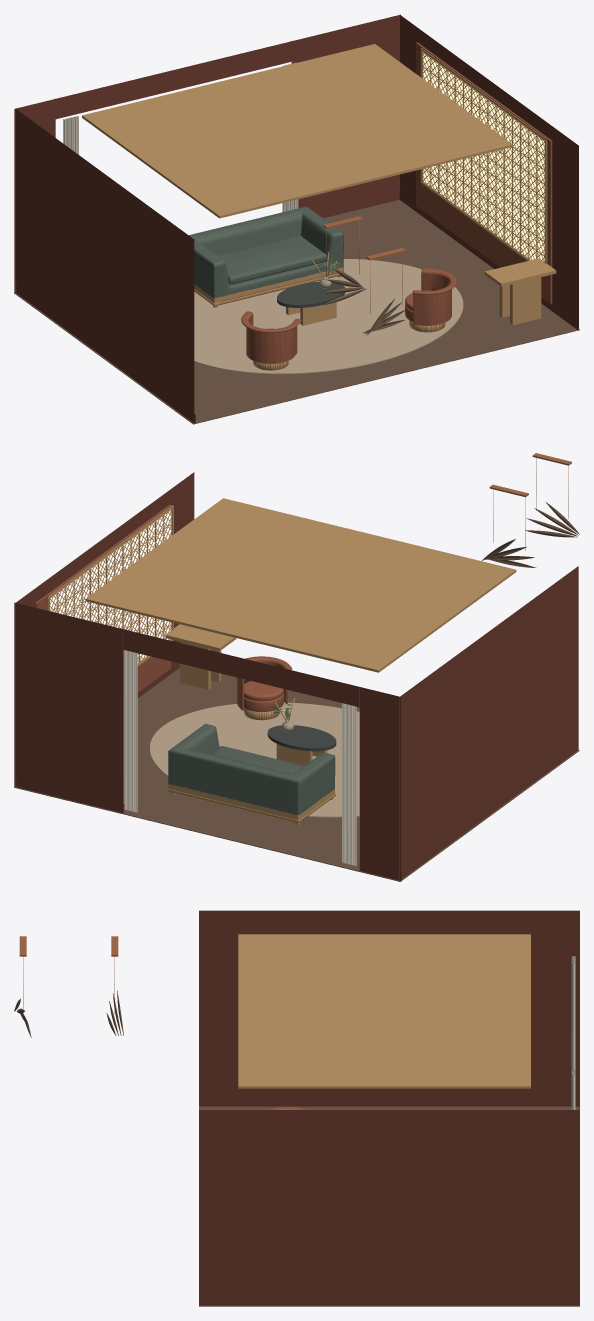
Rendered from great-2.glb.
3 views of the same model, one above another, from view 1: azimuth 30°, elevation 25°; view 2: azimuth 150°, elevation 25°; view 3: azimuth 270°, elevation 25° (orthographic). The views are drawn at different scales.
Parts seen in each view (by area): view 1: DESIGN | great removable wall finish, DESIGN | Social ceiling field, DESIGN | great floor finish, DESIGN | Great room primary ground, DESIGN | Kumiko | Long luminous room backdrop, DESIGN | Great room sofa facing conversation, DESIGN | Long luminous room backdrop diffuse backing, DESIGN | Clay conversation wall, DESIGN | Required Bellustar swivel chair two, DESIGN | Required Bellustar swivel chair one, DESIGN | Occasional work and tea ledge trestle, DESIGN | Great room conversation table top (+3 smaller); view 2: DESIGN | great removable wall finish, DESIGN | Social ceiling field, DESIGN | great floor finish, DESIGN | Great room sofa facing conversation, DESIGN | Great room primary ground, DESIGN | Kumiko | Long luminous room backdrop, DESIGN | Long luminous room backdrop diffuse backing, DESIGN | Great room soft window edge, DESIGN | Great room soft window edge.001, DESIGN | Required Bellustar swivel chair two, DESIGN | Great room conversation table top, DESIGN | Clay conversation wall (+4 smaller); view 3: DESIGN | great removable wall finish, DESIGN | Social ceiling field, DESIGN | great floor finish, DESIGN | Great room soft window edge.
Part boxes in pixels (x1,y1,x2,y2): DESIGN | great removable wall finish: (14,14,578,423); DESIGN | Social ceiling field: (82,44,512,218); DESIGN | great floor finish: (14,200,579,424); DESIGN | Great room primary ground: (194,259,463,374); DESIGN | Kumiko | Long luminous room backdrop: (420,48,547,264); DESIGN | Great room sofa facing conversation: (189,206,345,307); DESIGN | Long luminous room backdrop diffuse backing: (423,54,544,260); DESIGN | Clay conversation wall: (416,42,552,304); DESIGN | Required Bellustar swivel chair two: (405,268,456,332); DESIGN | Required Bellustar swivel chair one: (241,311,301,370); DESIGN | Occasional work and tea ledge trestle: (510,277,541,325); DESIGN | Great room conversation table top: (277,282,345,307); DESIGN | great removable wall finish: (14,472,578,880); DESIGN | Social ceiling field: (85,498,516,672); DESIGN | great floor finish: (14,668,579,881); DESIGN | Great room sofa facing conversation: (167,723,335,825); DESIGN | Great room primary ground: (150,702,359,817); DESIGN | Kumiko | Long luminous room backdrop: (47,505,173,666); DESIGN | Long luminous room backdrop diffuse backing: (50,510,171,662); DESIGN | Great room soft window edge: (342,703,356,866); DESIGN | Great room soft window edge.001: (123,650,137,812); DESIGN | Required Bellustar swivel chair two: (237,656,292,720); DESIGN | Great room conversation table top: (267,725,336,751); DESIGN | Clay conversation wall: (35,504,171,692); DESIGN | great removable wall finish: (199,910,579,1305); DESIGN | Social ceiling field: (238,934,530,1088); DESIGN | great floor finish: (199,1106,579,1306); DESIGN | Great room soft window edge: (571,956,575,1070).
Bounding box in the file's own units: 6 × 3.04 × 7.16.
